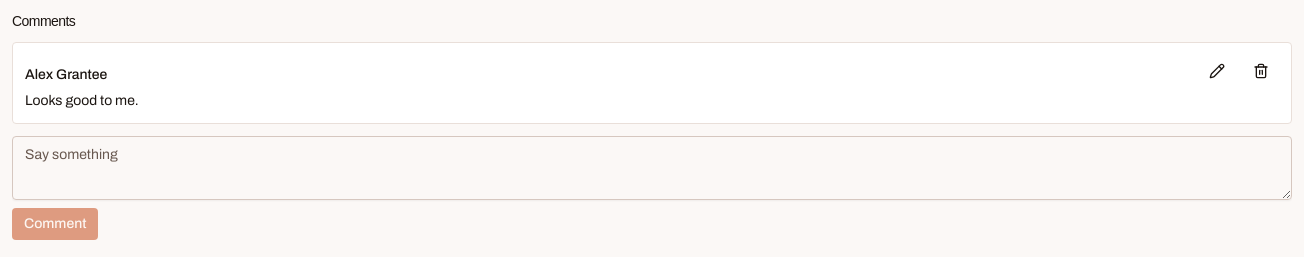
Test: CommentThread › deleting a comment › DELETEs the comment scoped by entityType/entityId and re-renders the thread
Expected: the text "Alex Grantee" is shown, [25, 65, 107, 85]
Step 1. Click the 2nd button named "remove this comment" → (1261, 71), box [1243, 55, 1279, 87]
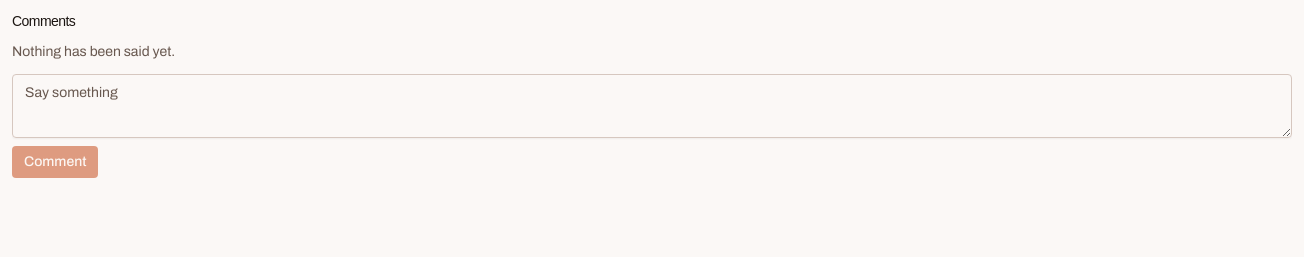
Expected: the text "Nothing has been said yet." is shown, [12, 44, 175, 59]
